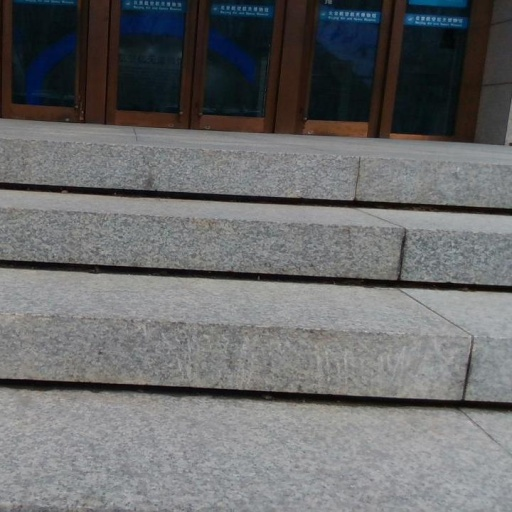Stairs: (0, 120, 512, 402)
